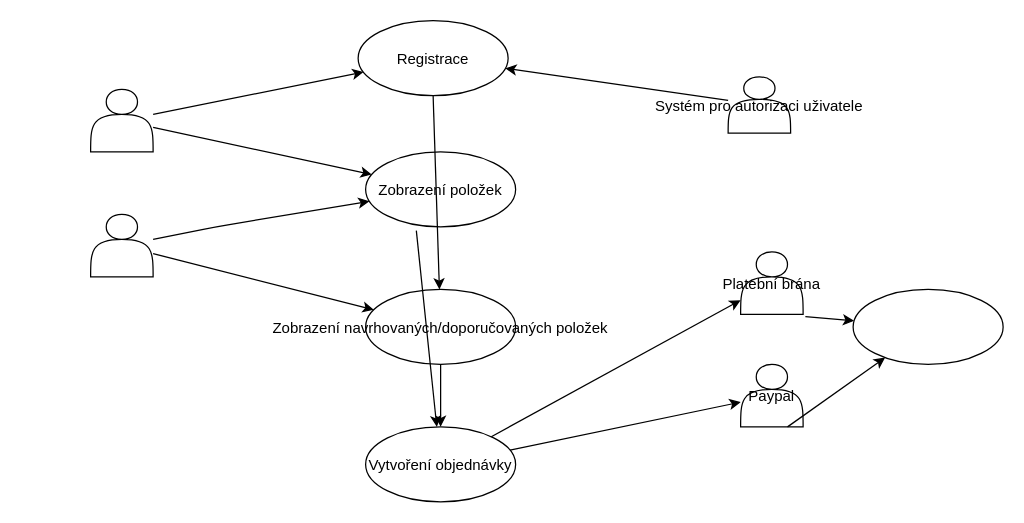
The diagram is 1024 pixels wide and 523 high, and some of its shapes have lost their labels. The centre of each missing label's shape, as x and y in pixels:
"Nový uživatel (neregistrovaný)" belongs at (121,120).
"Registrovaný uživatel" belongs at (121,245).
"Zaplacení" belongs at (927,326).
